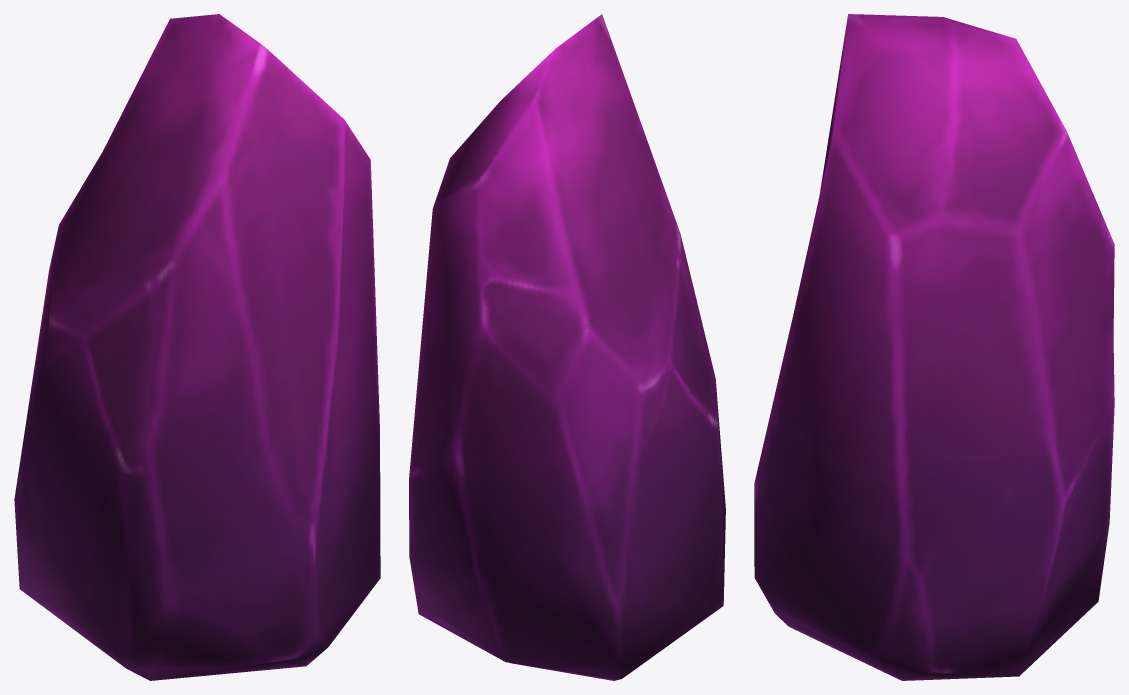
The model's file is VEG0510008.fbx.
3 views of the same model, side by side, from view 1: azimuth 30°, elevation 25°; view 2: azimuth 150°, elevation 25°; view 3: azimuth 270°, elevation 25° (orthographic). The views are drawn at different scales.
Parts seen in each view (by area): view 1: smVEG0510008; view 2: smVEG0510008; view 3: smVEG0510008.
Boxes of the visible parts, x1,y1,x2,y2 form: smVEG0510008: (14,14,380,680); smVEG0510008: (409,14,725,680); smVEG0510008: (754,14,1114,680).
Bounding box in the file's own units: 19.81 × 40.41 × 21.65.
Materials: 1 (1 with a texture image).
